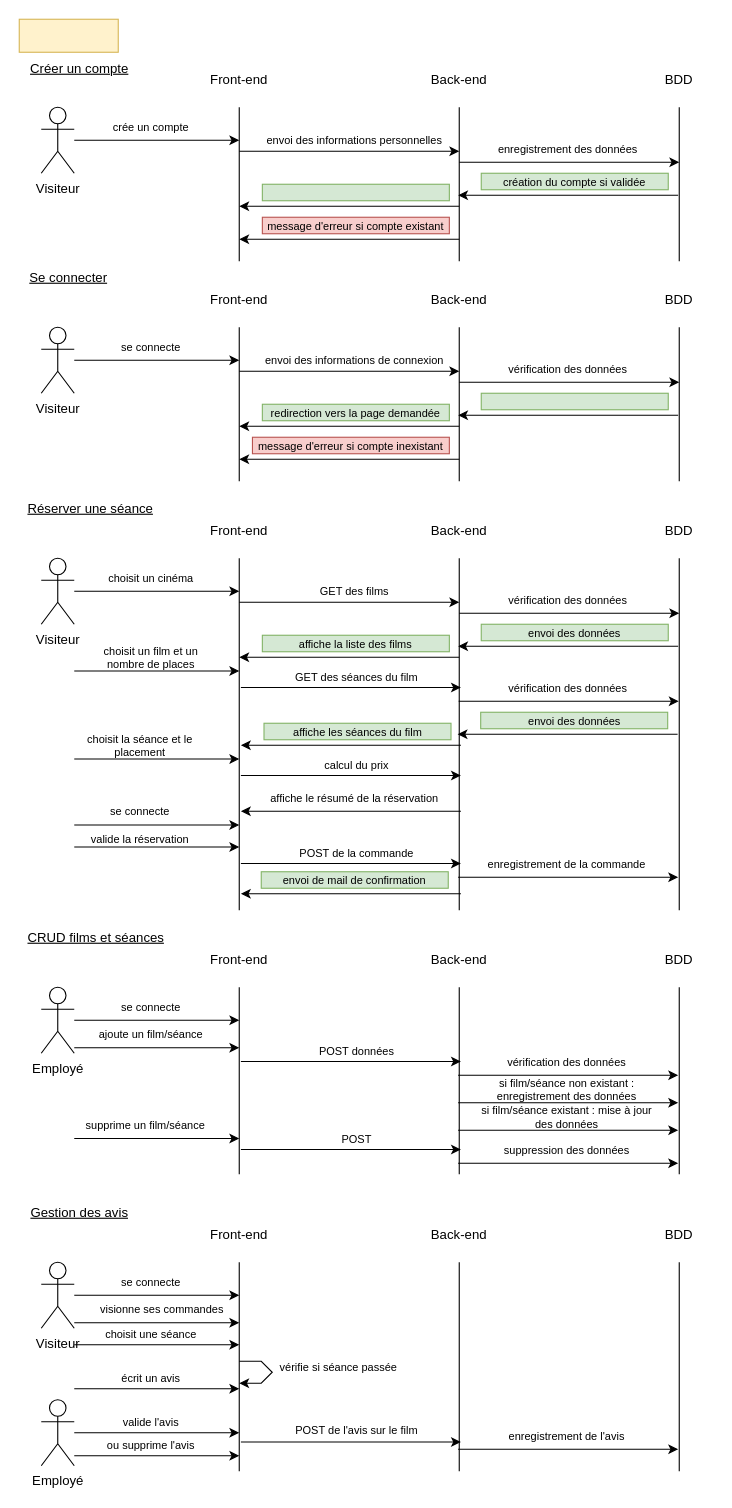
Image size: 732x1508. Some labels were removed from this diagram. Here are the shapes that lost their labels. From the top down, the centre of each, then its label:
pixel 68 35: Application web
pixel 355 192: confirmation de la création du compte
pixel 574 401: connexion au compte si validée
